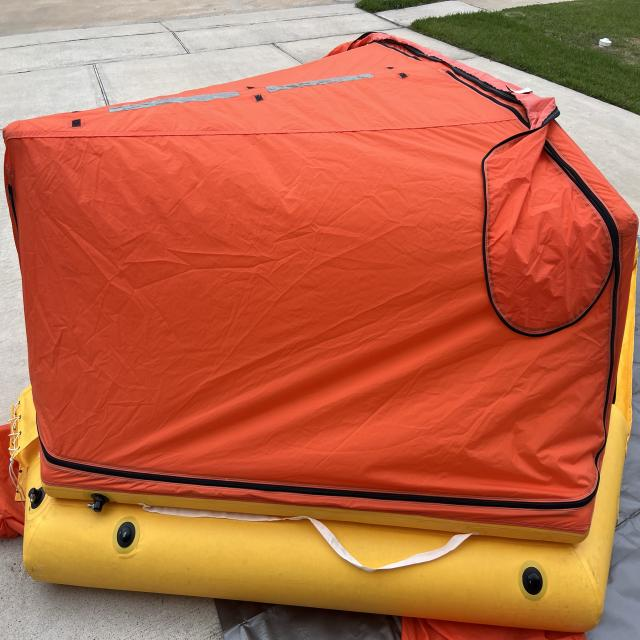Multi-person_life_raft: (0, 33, 638, 639)
